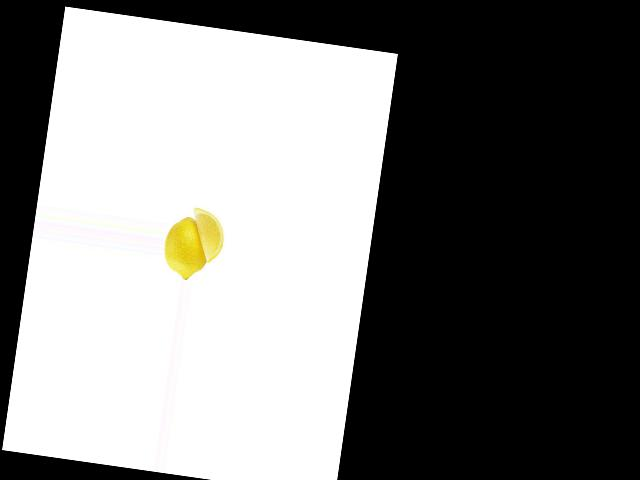lemon: (160, 210, 214, 284)
